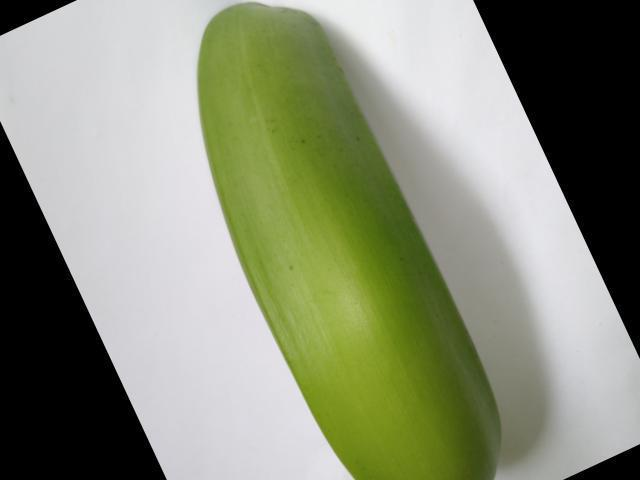freshunripe: (173, 0, 520, 479)
